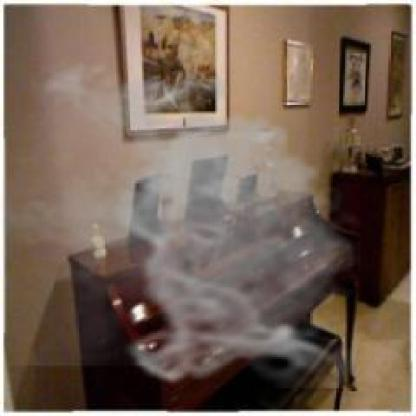Smoke: (2, 52, 369, 388)
